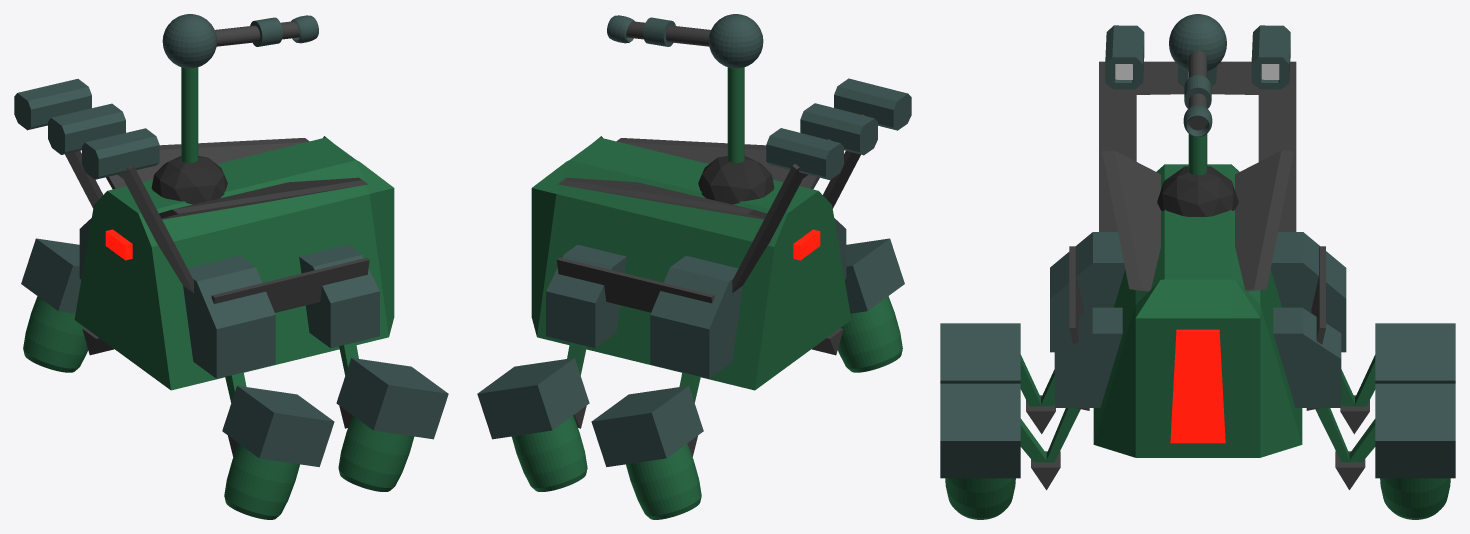
The model's file is Gegner2.fbx.
3 renders of one model, left to right at view 1: azimuth 30°, elevation 25°; view 2: azimuth 150°, elevation 25°; view 3: azimuth 270°, elevation 25°, orthographic. The views are drawn at different scales.
Parts seen in each view (by area): view 1: Cube.001, Cube.000; view 2: Cube.001, Cube.000; view 3: Cube.001, Cube.000.
Part boxes in pixels (x1,y1,x2,y2): Cube.001: (14, 79, 448, 519); Cube.000: (151, 14, 318, 204); Cube.001: (477, 78, 911, 519); Cube.000: (607, 14, 774, 204); Cube.001: (940, 25, 1455, 519); Cube.000: (1157, 14, 1238, 216).
Size of the model in its own units: 405 by 517 by 533.
